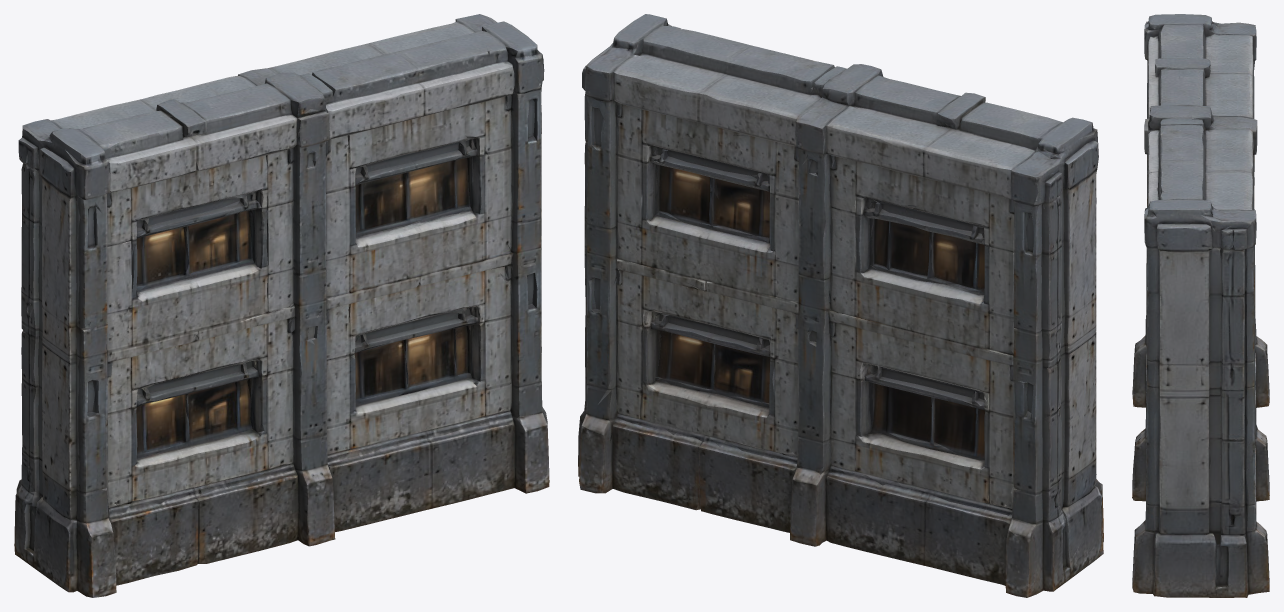
The model's file is MAP-C-FACADE-01-lod0.glb.
The picture shows the model from 3 angles, left to right: view 1: azimuth 30°, elevation 25°; view 2: azimuth 150°, elevation 25°; view 3: azimuth 270°, elevation 25°; orthographic projection. The views are drawn at different scales.
Visible parts, largest first — view 1: Mesh; view 2: Mesh; view 3: Mesh.
Boxes of the visible parts, x1=… form: Mesh: x1=14, y1=14, x2=549, y2=597; Mesh: x1=578, y1=14, x2=1103, y2=597; Mesh: x1=1132, y1=14, x2=1269, y2=597.
Bounding box in the file's own units: 1.89 × 1.64 × 0.5295.
1 material, 1 textured.
